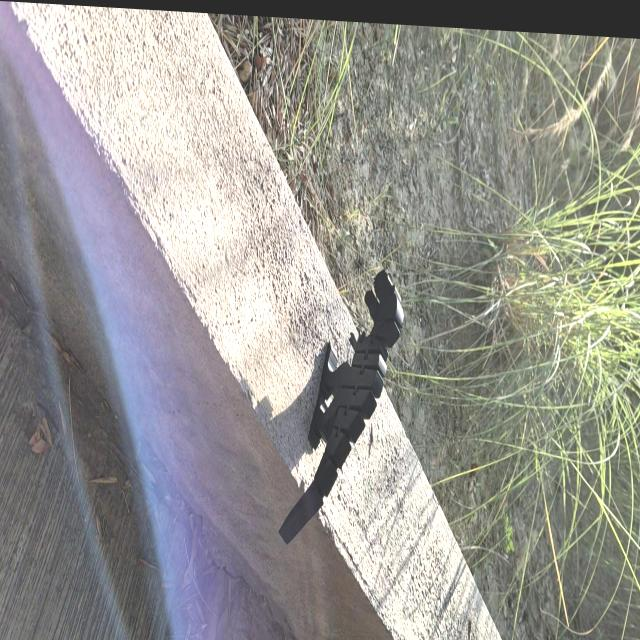dino: (277, 260, 405, 553)
